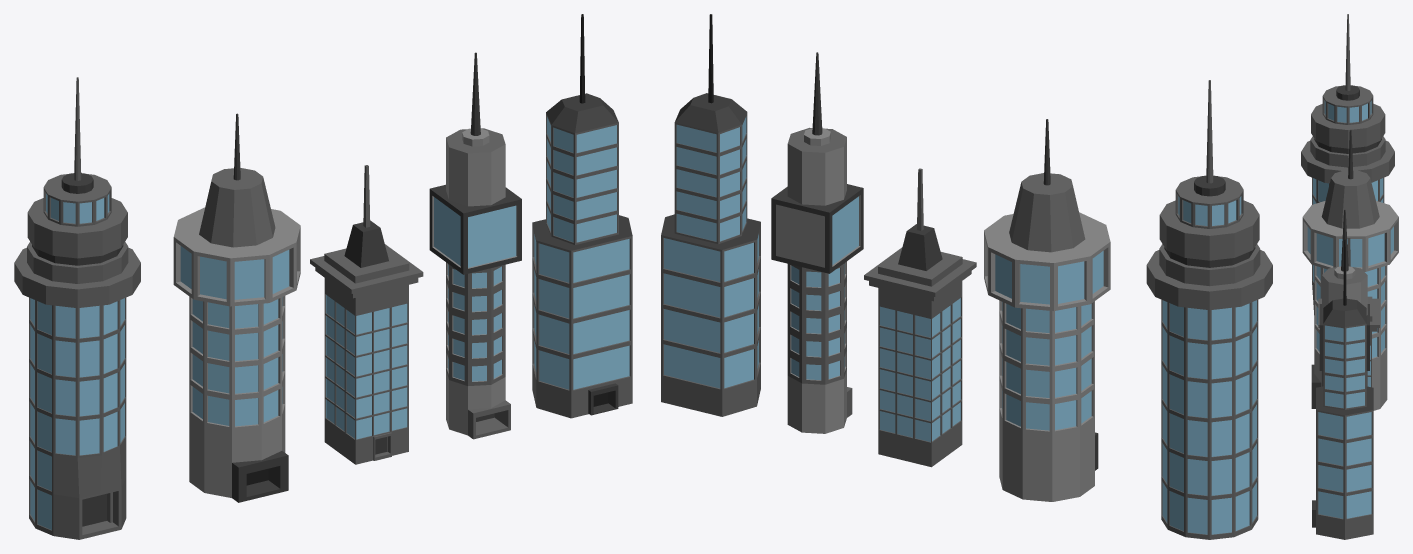
The model's file is edificios.fbx.
3 renders of one model, left to right at view 1: azimuth 30°, elevation 25°; view 2: azimuth 150°, elevation 25°; view 3: azimuth 270°, elevation 25°, orthographic. The views are drawn at different scales.
Parts seen in each view (by area): view 1: Skyscraper1, Skyscraper3, Skyscraper5, Skyscraper4, Skyscraper2; view 2: Skyscraper1, Skyscraper3, Skyscraper5, Skyscraper4, Skyscraper2; view 3: Skyscraper5, Skyscraper3, Skyscraper1, Skyscraper4, Skyscraper2.
Boxes of the visible parts, x1,y1,x2,y2 form: Skyscraper1: (14,77,140,539); Skyscraper3: (173,113,300,502); Skyscraper5: (532,14,632,418); Skyscraper4: (429,52,521,439); Skyscraper2: (310,165,423,464); Skyscraper1: (1146,80,1272,539); Skyscraper3: (984,119,1110,501); Skyscraper5: (661,14,760,416); Skyscraper4: (771,52,863,433); Skyscraper2: (864,168,976,467); Skyscraper5: (1312,239,1373,539); Skyscraper3: (1302,129,1398,410); Skyscraper1: (1301,14,1394,314); Skyscraper4: (1319,209,1369,386); Skyscraper2: (1318,237,1379,387).
Size of the model in its own units: 2262 by 1578 by 428.
5 materials, 5 textured.
